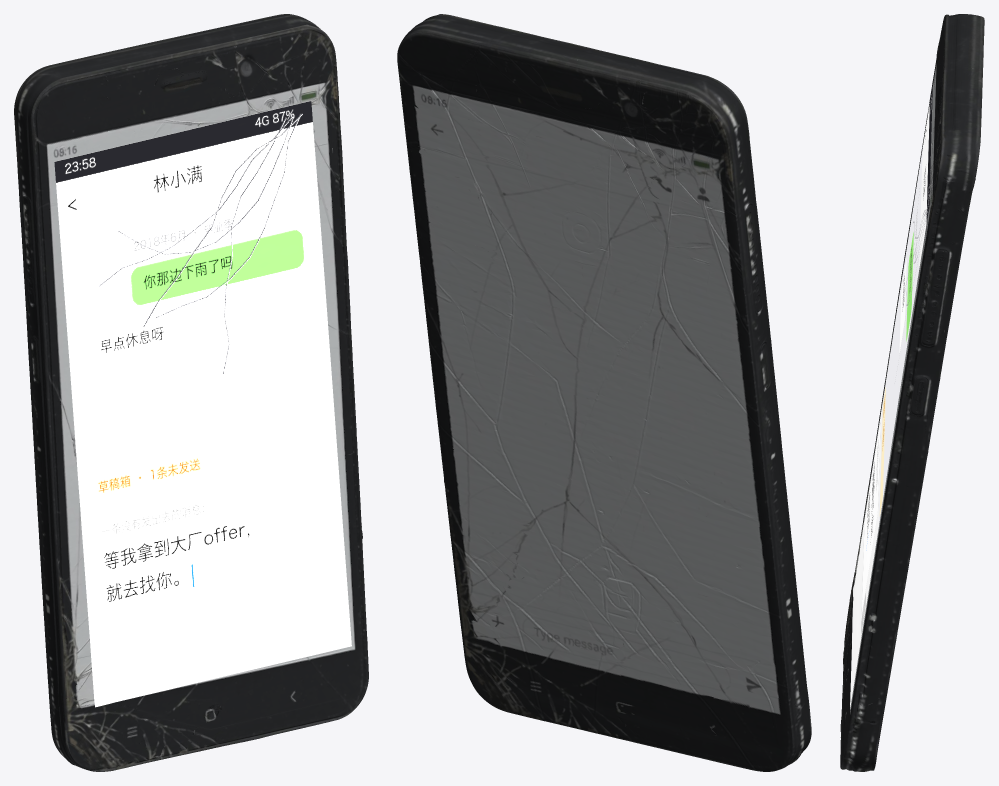
The model's file is hi3d-relic-2.glb.
3 views of the same model, side by side, from view 1: azimuth 30°, elevation 25°; view 2: azimuth 150°, elevation 25°; view 3: azimuth 270°, elevation 25° (orthographic). The views are drawn at different scales.
Visible parts, largest first — view 1: screen_draft_message, world; view 2: world; view 3: world, screen_draft_message.
Boxes of the visible parts, left/top/right/bottom form: screen_draft_message: left=54, top=101, right=351, bottom=707; world: left=14, top=14, right=368, bottom=771; world: left=397, top=14, right=811, bottom=771; world: left=840, top=14, right=984, bottom=771; screen_draft_message: left=850, top=84, right=932, bottom=708.
Size of the model in its own units: 0.5044 by 1 by 0.2022.
Materials: 2 (2 with a texture image).
